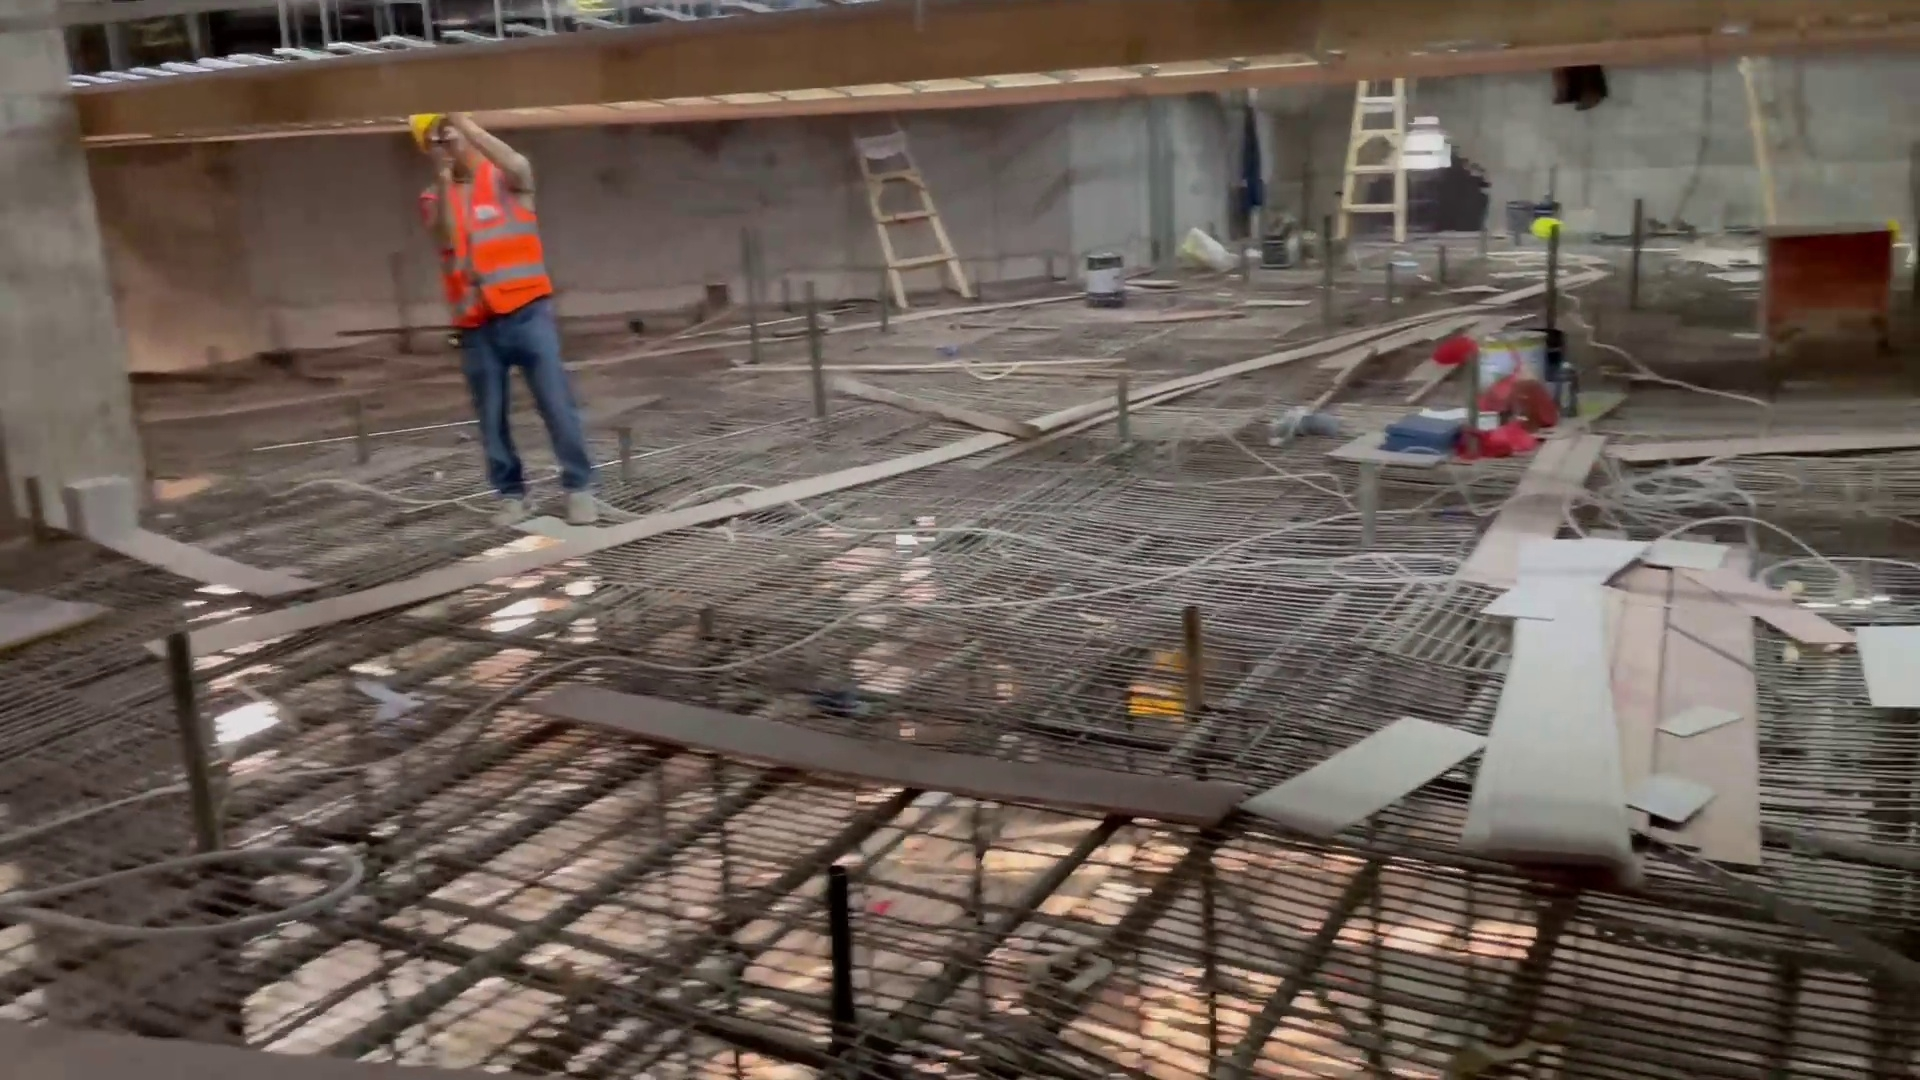helmet: (403, 108, 439, 154), (1525, 210, 1565, 237)
person: (394, 110, 616, 526)
vest: (421, 164, 552, 328)
